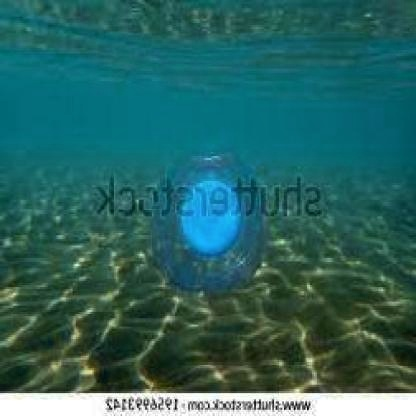pbottle: (148, 137, 278, 304)
